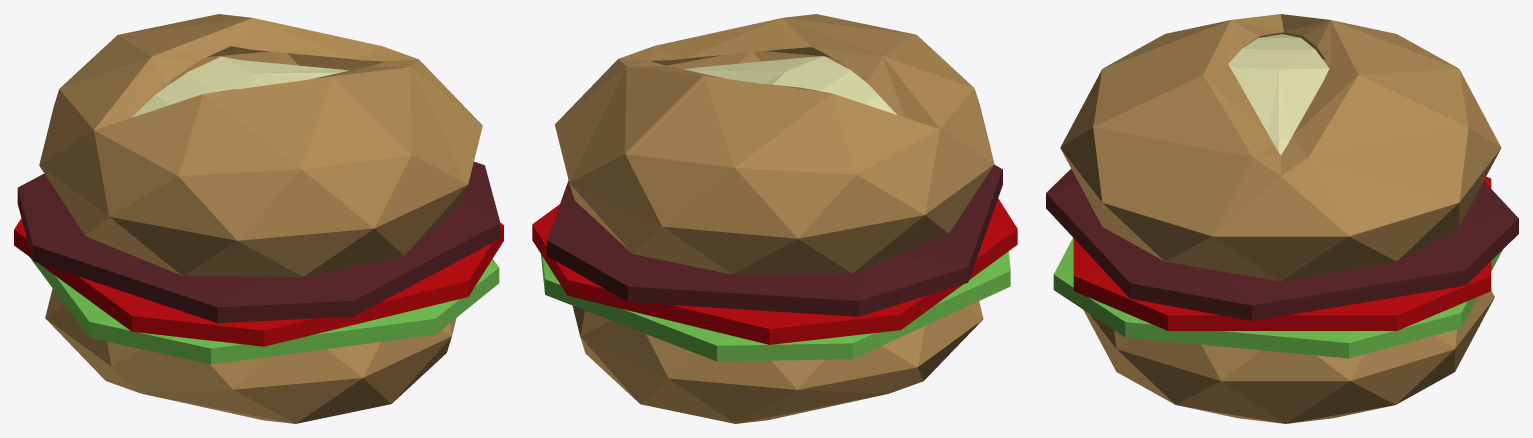
File: Hamburger.fbx
The picture shows the model from 3 angles, left to right: view 1: azimuth 30°, elevation 25°; view 2: azimuth 150°, elevation 25°; view 3: azimuth 270°, elevation 25°; orthographic projection. The views are drawn at different scales.
Visible parts, largest first — view 1: Icosphere, 立方体.002, Icosphere.002, 立方体.001, 立方体, Icosphere.001; view 2: Icosphere, 立方体.002, Icosphere.002, 立方体.001, 立方体, Icosphere.001; view 3: Icosphere, Icosphere.002, 立方体.002, 立方体.001, 立方体, Icosphere.001.
Boxes of the visible parts, <box> form: Icosphere: <box>39,14,482,276</box>; 立方体.002: <box>17,161,500,323</box>; Icosphere.002: <box>45,288,456,423</box>; 立方体.001: <box>14,218,503,346</box>; 立方体: <box>29,257,499,364</box>; Icosphere.001: <box>132,56,348,117</box>; Icosphere: <box>555,14,994,274</box>; 立方体.002: <box>547,164,1002,316</box>; Icosphere.002: <box>572,301,983,423</box>; 立方体.001: <box>532,198,1017,344</box>; 立方体: <box>541,251,1010,361</box>; Icosphere.001: <box>684,56,896,114</box>; Icosphere: <box>1060,14,1501,281</box>; Icosphere.002: <box>1083,290,1494,423</box>; 立方体.002: <box>1046,169,1518,320</box>; 立方体.001: <box>1073,176,1491,330</box>; 立方体: <box>1053,238,1502,358</box>; Icosphere.001: <box>1228,34,1329,155</box>.
Size of the model in its own units: 226 by 170 by 226.
